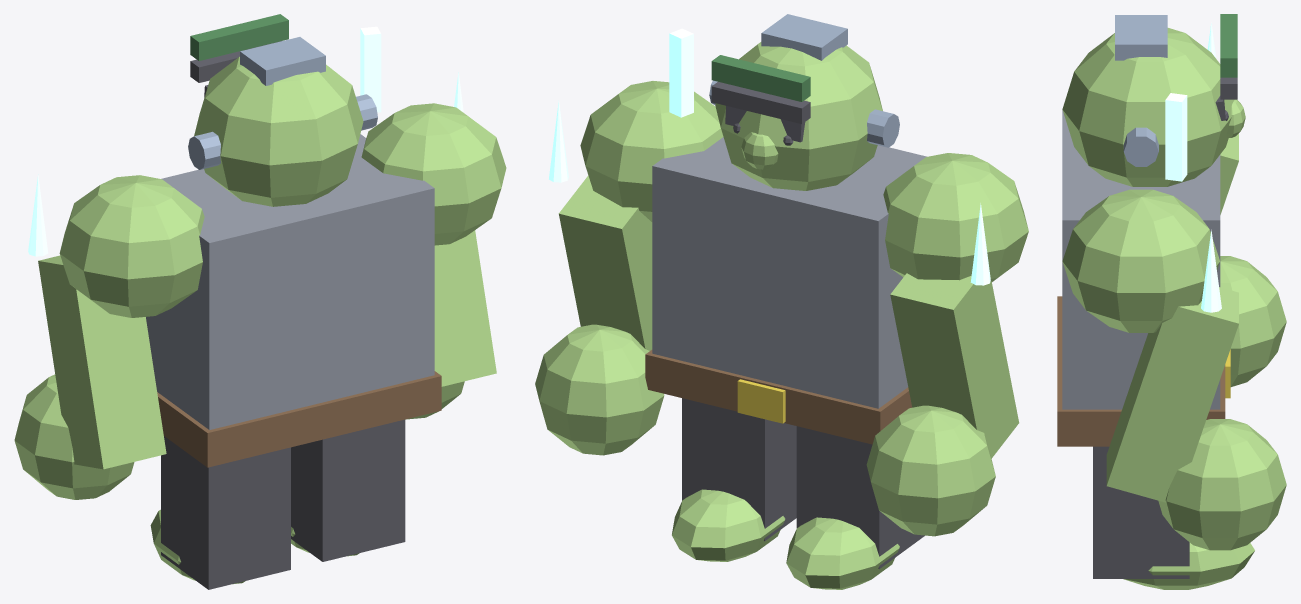
The model's file is goblinstein.glb.
3 views of the same model, side by side, from view 1: azimuth 30°, elevation 25°; view 2: azimuth 150°, elevation 25°; view 3: azimuth 270°, elevation 25° (orthographic).
Parts seen in each view (by area): view 1: goblinstein; view 2: goblinstein; view 3: goblinstein.
Boxes of the visible parts, bbox=[...] form: goblinstein: bbox=[14, 14, 506, 589]; goblinstein: bbox=[535, 14, 1028, 589]; goblinstein: bbox=[1057, 14, 1286, 589].
Size of the model in its own units: 3.51 by 3.97 by 1.57.
